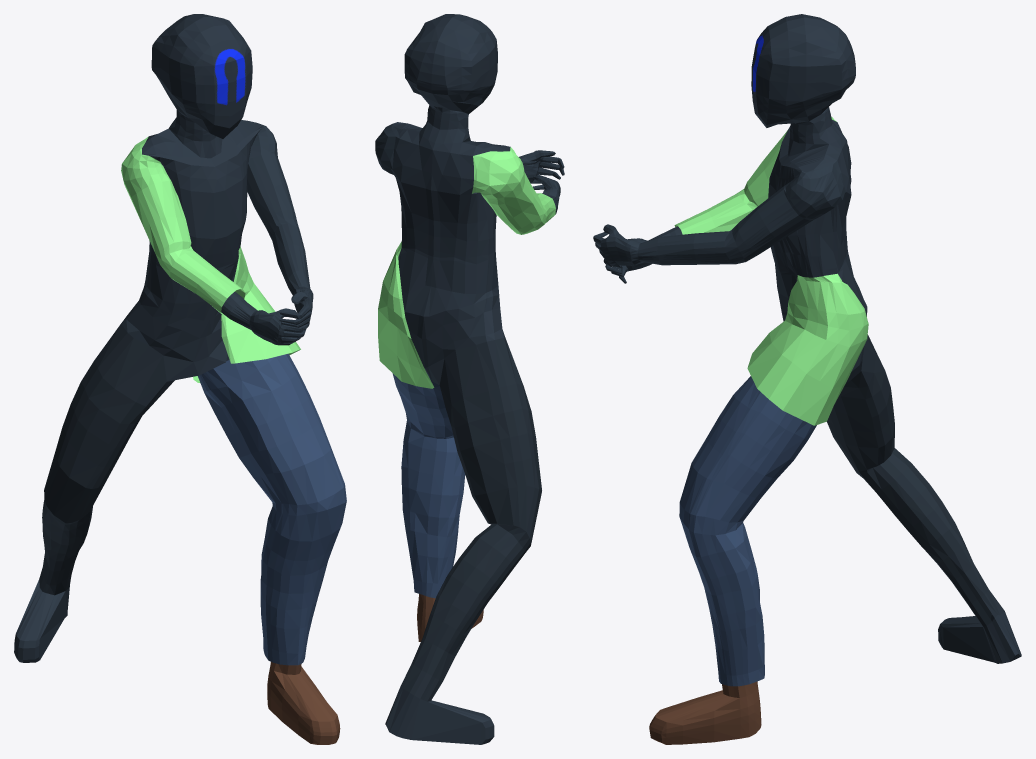
File: Mar_WL_000027.obj
The picture shows the model from 3 angles, left to right: view 1: azimuth 30°, elevation 25°; view 2: azimuth 150°, elevation 25°; view 3: azimuth 270°, elevation 25°; orthographic projection. The views are drawn at different scales.
Visible parts, largest first — view 1: Cube.000_Cube.001; view 2: Cube.000_Cube.001; view 3: Cube.000_Cube.001.
Part boxes in pixels (bbox=[...]): Cube.000_Cube.001: bbox=[14, 14, 346, 744]; Cube.000_Cube.001: bbox=[375, 14, 564, 744]; Cube.000_Cube.001: bbox=[593, 14, 1021, 744].
Bounding box in the file's own units: 1.19 × 3.73 × 2.09.
